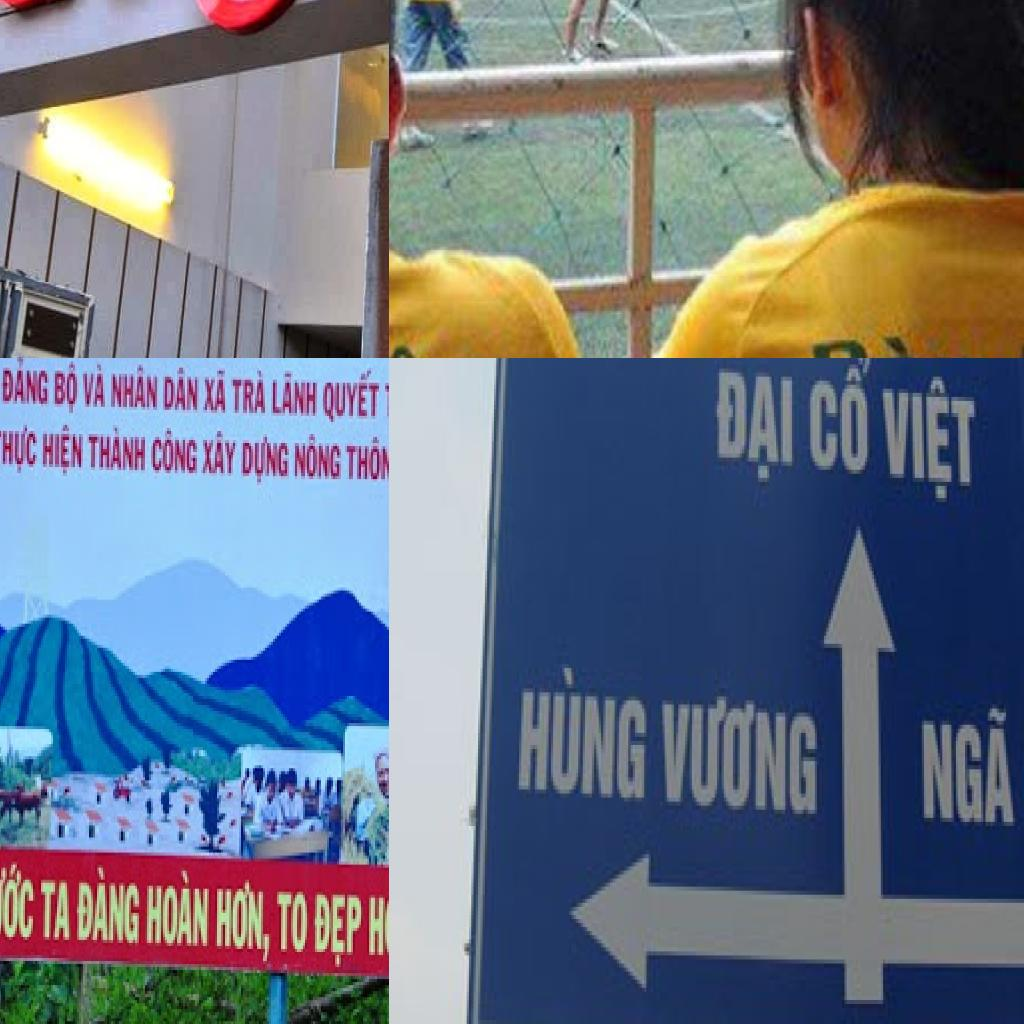text: (660, 688, 822, 826), (517, 664, 651, 806), (881, 369, 981, 510), (919, 700, 1022, 826), (715, 364, 799, 490), (807, 358, 876, 477), (73, 868, 141, 955), (797, 328, 985, 358), (145, 871, 213, 952), (215, 880, 277, 964), (311, 892, 365, 973), (321, 365, 383, 428), (87, 422, 149, 476), (0, 858, 37, 946), (239, 431, 291, 491), (107, 365, 161, 416), (151, 425, 201, 479), (0, 358, 51, 410), (41, 422, 85, 482), (343, 431, 389, 488), (37, 880, 75, 949), (295, 431, 343, 485), (275, 892, 311, 961), (0, 419, 41, 479), (271, 371, 321, 419), (201, 428, 241, 482), (161, 365, 201, 413), (231, 368, 269, 416), (53, 358, 81, 422), (79, 362, 109, 413), (201, 365, 231, 416)
